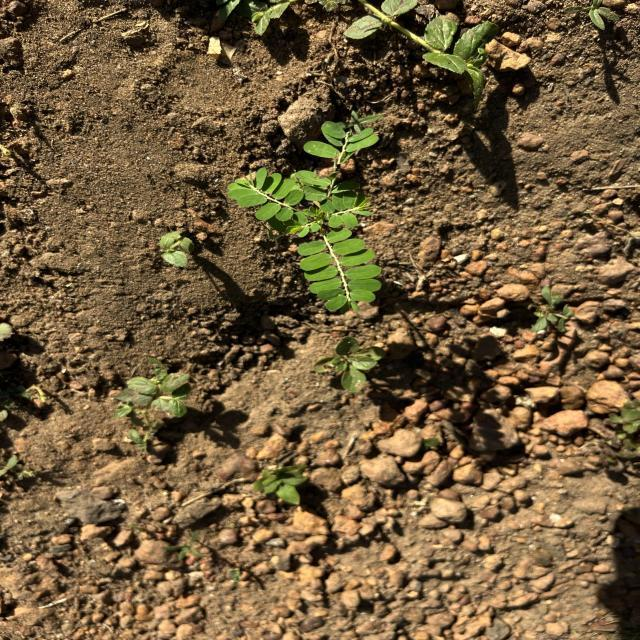Phyllanthus niruri: (296, 228, 384, 314), (224, 167, 305, 224), (318, 190, 376, 228)
